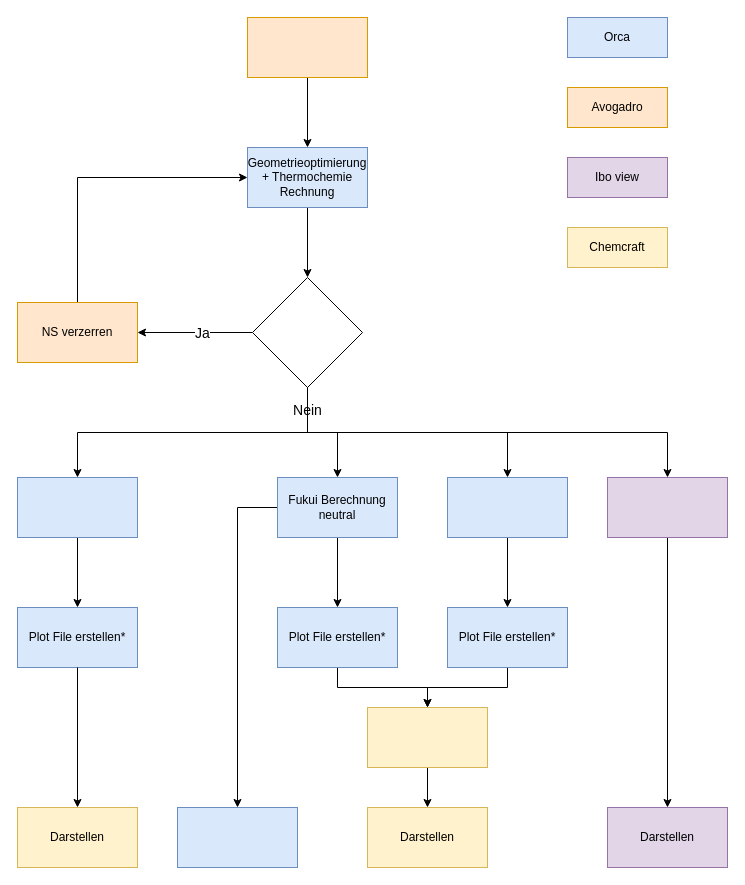
Some shapes in this 745 by 885 pixel diagram are drawn without their labels. Each missing label, with the box of its shape:
Ergebnisse der Atomladungen: (176, 806, 298, 868)
FOD Berechnung: (16, 476, 138, 538)
Fukui Berechnung kation: (446, 476, 568, 538)
Molekül zeichnen + Force Field Optimierung: (246, 16, 368, 78)
neutral mit kation File subtrahieren: (366, 706, 488, 768)
Orbitale berechnen: (606, 476, 728, 538)
sind NS vorhanden?: (252, 276, 362, 388)
